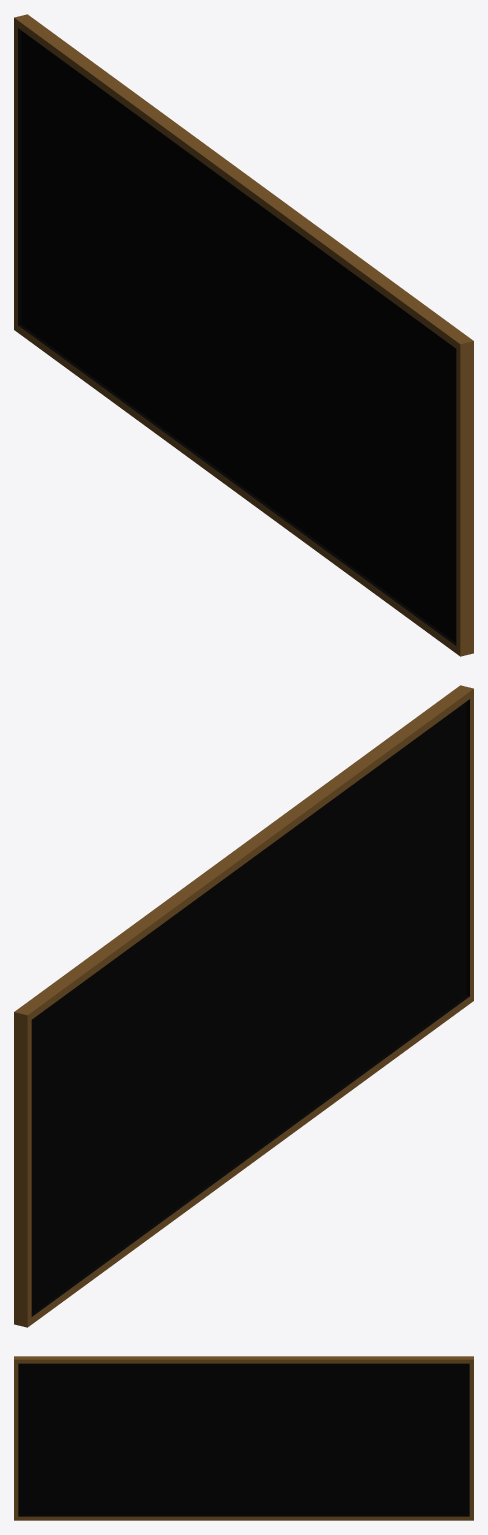
File: BackBoard_Question.fbx
The picture shows the model from 3 angles, top to bottom: view 1: azimuth 30°, elevation 25°; view 2: azimuth 150°, elevation 25°; view 3: azimuth 270°, elevation 25°; orthographic projection. The views are drawn at different scales.
Visible parts, largest first — view 1: BackBoard_Question; view 2: BackBoard_Question; view 3: BackBoard_Question.
Part boxes in pixels (x1=…): BackBoard_Question: x1=14, y1=14, x2=473, y2=656; BackBoard_Question: x1=14, y1=685, x2=473, y2=1327; BackBoard_Question: x1=14, y1=1356, x2=473, y2=1520.
Size of the model in its own units: 1140 by 20 by 440.
